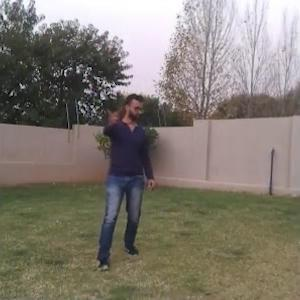takeoff-hand: (104, 101, 127, 130)
